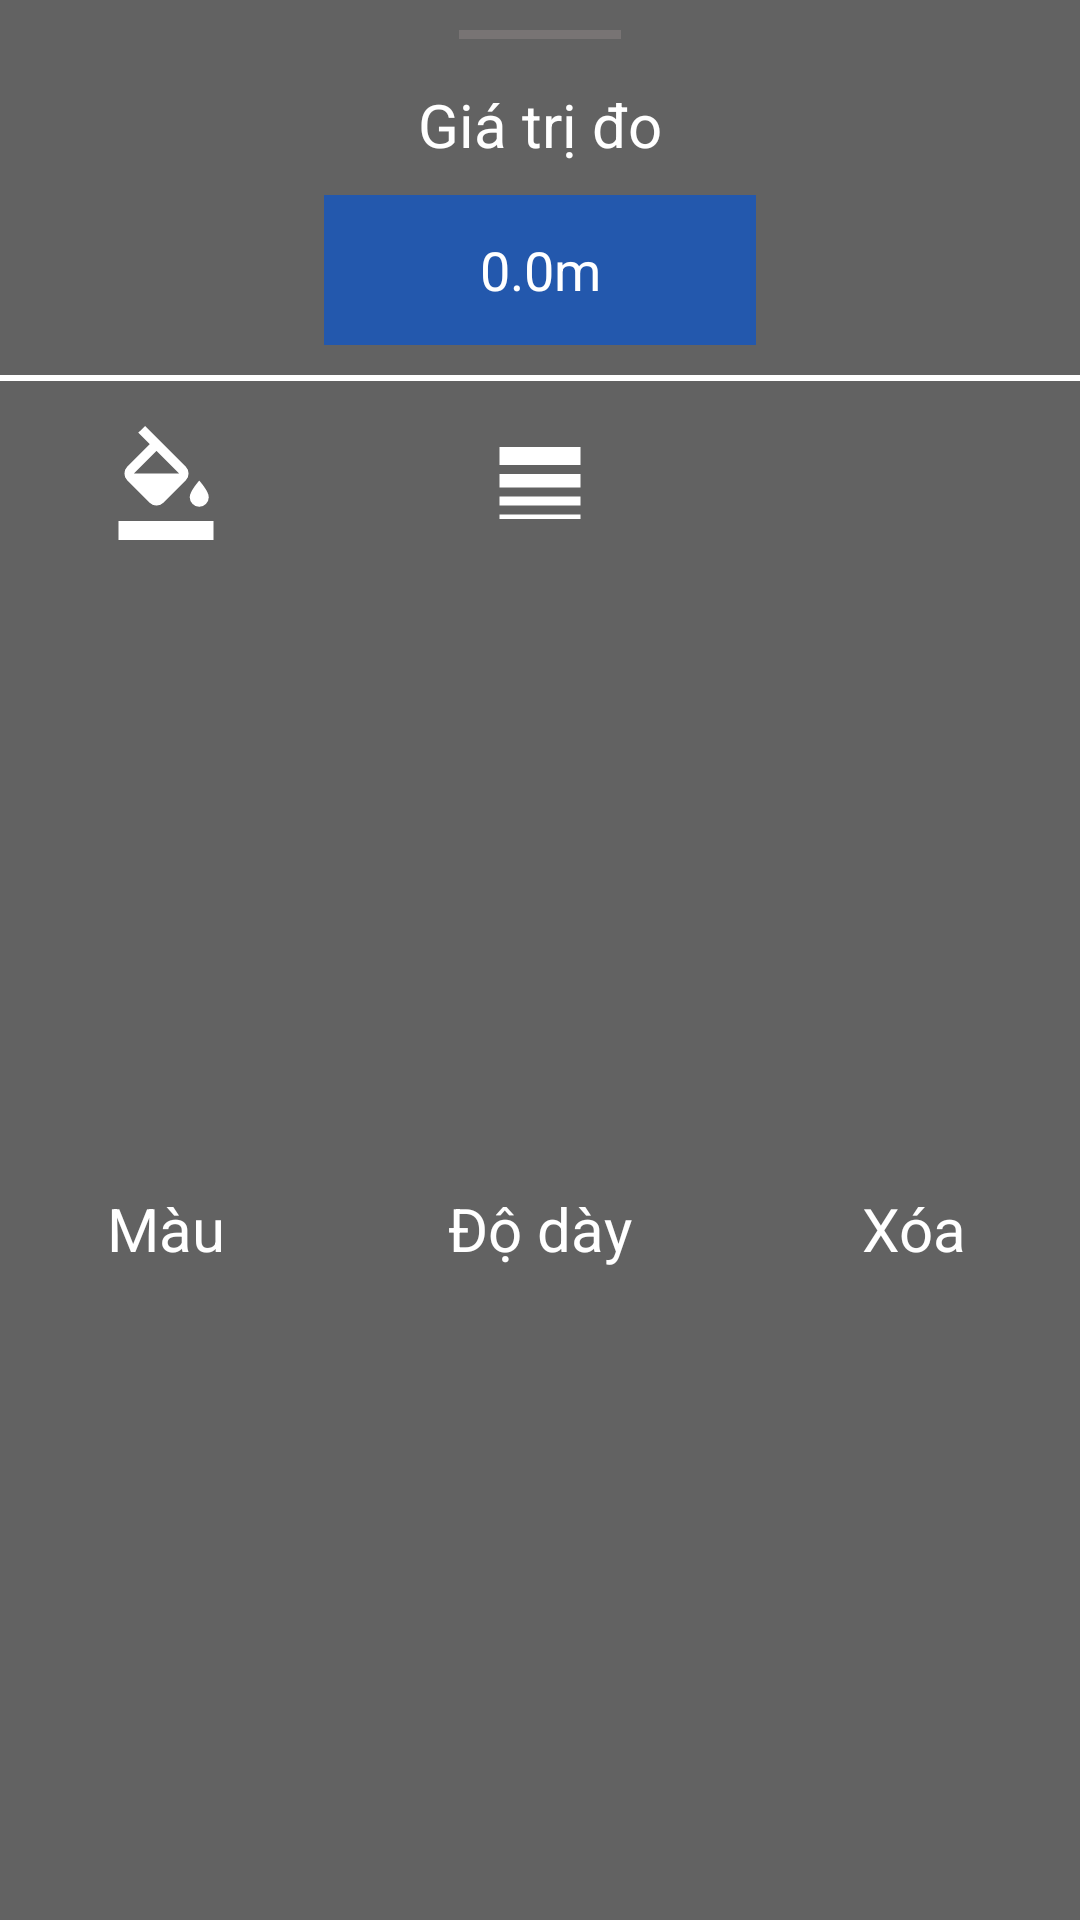

Named icons in this screenshot (1080 × 1920) and their bounding boxes, (x1, y1, x2, y2):
line thickness: (499, 447, 581, 519)
